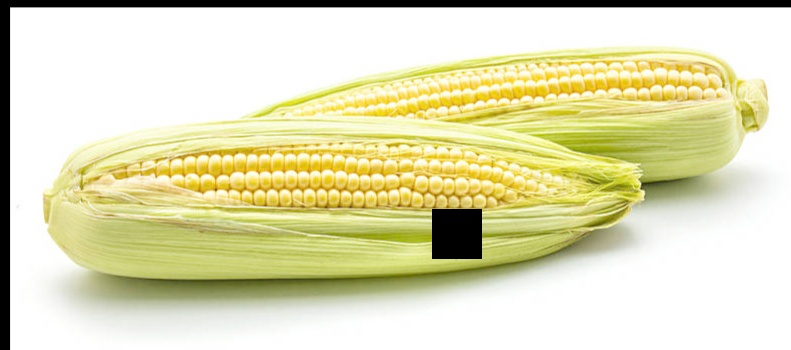corn: (36, 118, 647, 275), (222, 45, 768, 181)
